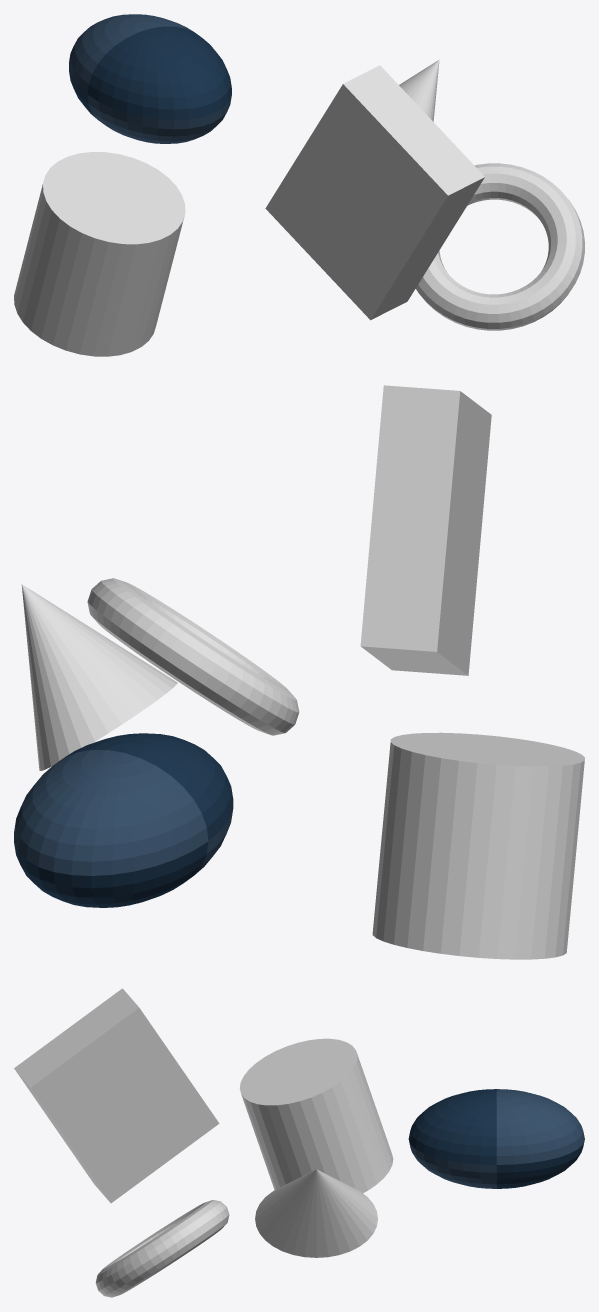
File: combined_srt.glb
3 views of the same model, one above another, from view 1: azimuth 30°, elevation 25°; view 2: azimuth 150°, elevation 25°; view 3: azimuth 270°, elevation 25° (orthographic). The views are drawn at different scales.
Parts seen in each view (by area): view 1: Cube, Cylinder, Sphere, Torus, Cone; view 2: Cylinder, Cube, Sphere, Cone, Torus; view 3: Cube, Cylinder, Sphere, Cone, Torus.
Boxes of the visible parts, bbox=[...] form: Cube: bbox=[265, 65, 484, 320]; Cylinder: bbox=[14, 152, 185, 356]; Sphere: bbox=[69, 14, 231, 143]; Torus: bbox=[415, 163, 584, 330]; Cone: bbox=[399, 59, 439, 121]; Cylinder: bbox=[372, 732, 584, 959]; Cube: bbox=[360, 385, 491, 675]; Sphere: bbox=[14, 733, 233, 907]; Cone: bbox=[21, 584, 177, 770]; Torus: bbox=[87, 578, 299, 735]; Cube: bbox=[14, 988, 219, 1203]; Cylinder: bbox=[239, 1038, 393, 1193]; Sphere: bbox=[408, 1089, 584, 1188]; Cone: bbox=[255, 1169, 377, 1257]; Torus: bbox=[95, 1200, 229, 1297].
Bounding box in the file's own units: 7.06 × 4.63 × 9.28.
1 material, 1 textured.
